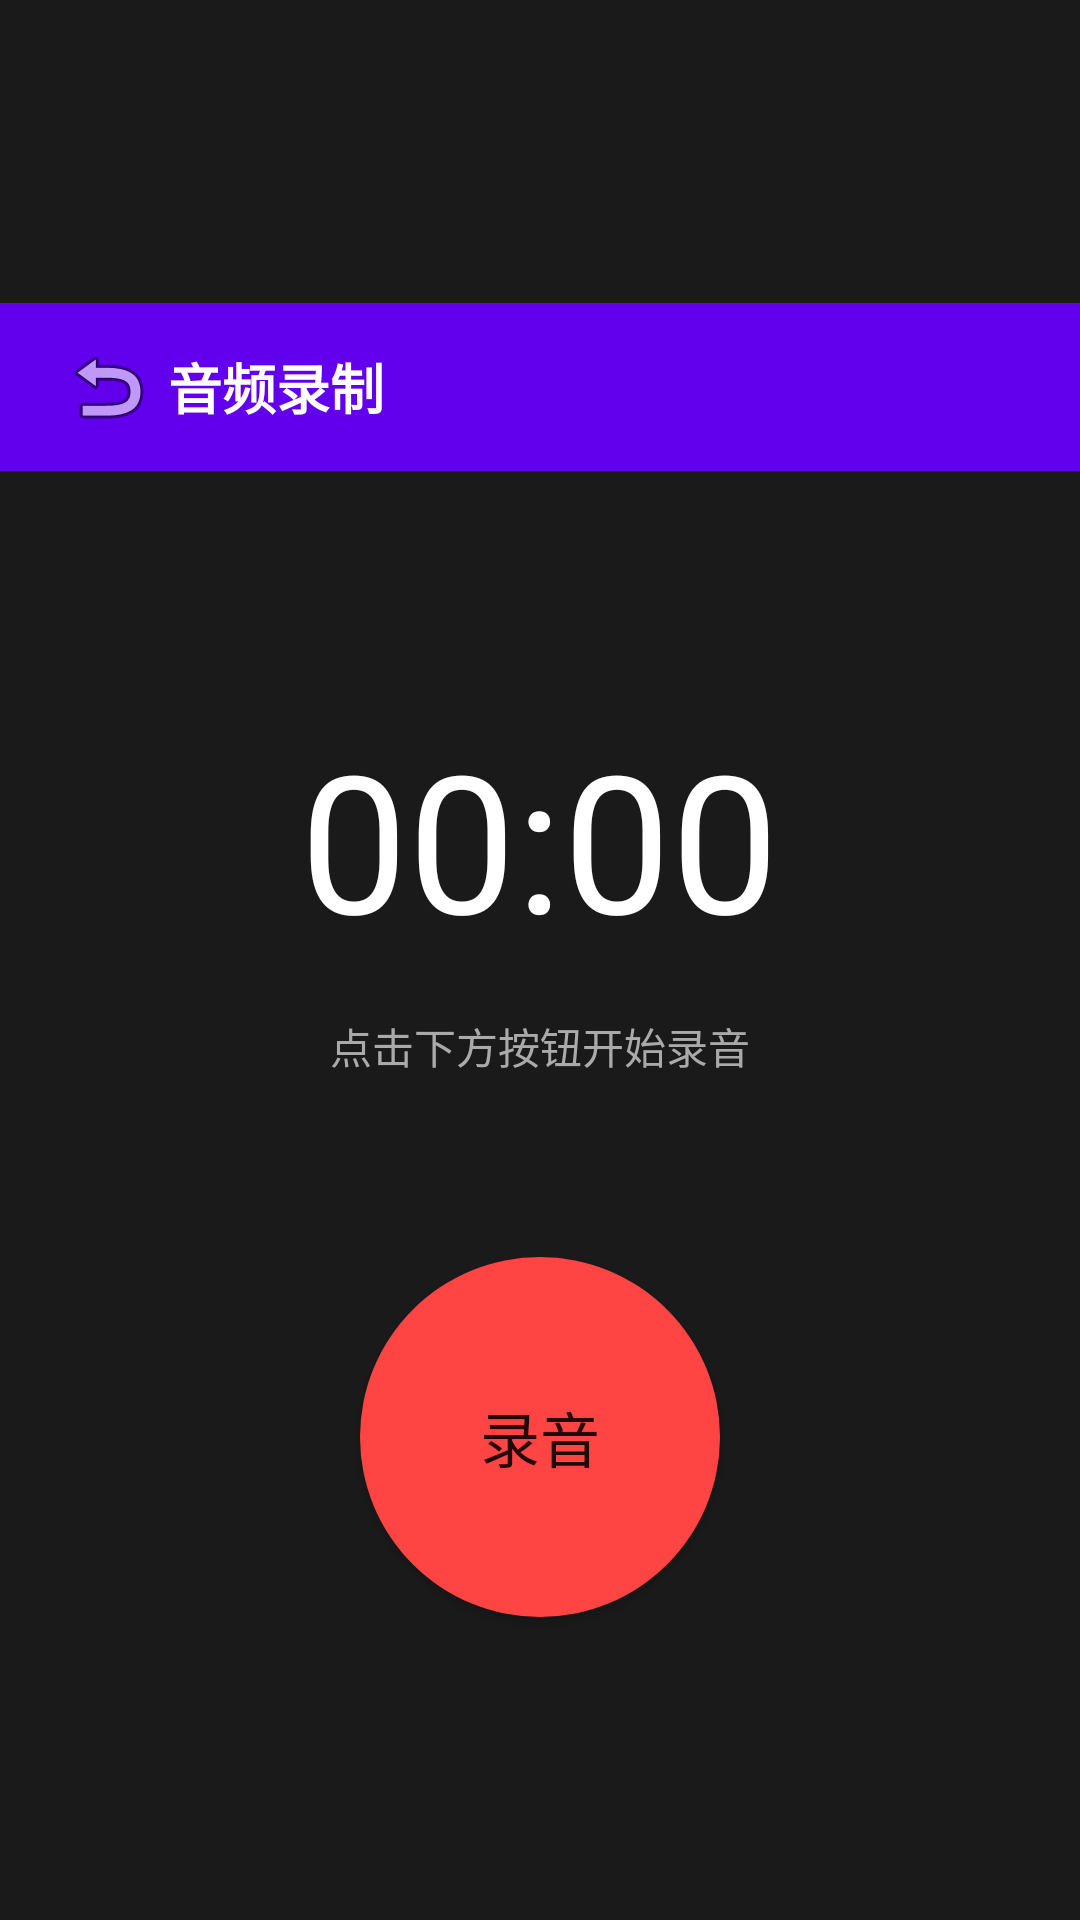

Icon click points for this 1080*1920 phone screenshot, format (x=x, y=y):
revert: (x=109, y=387)
